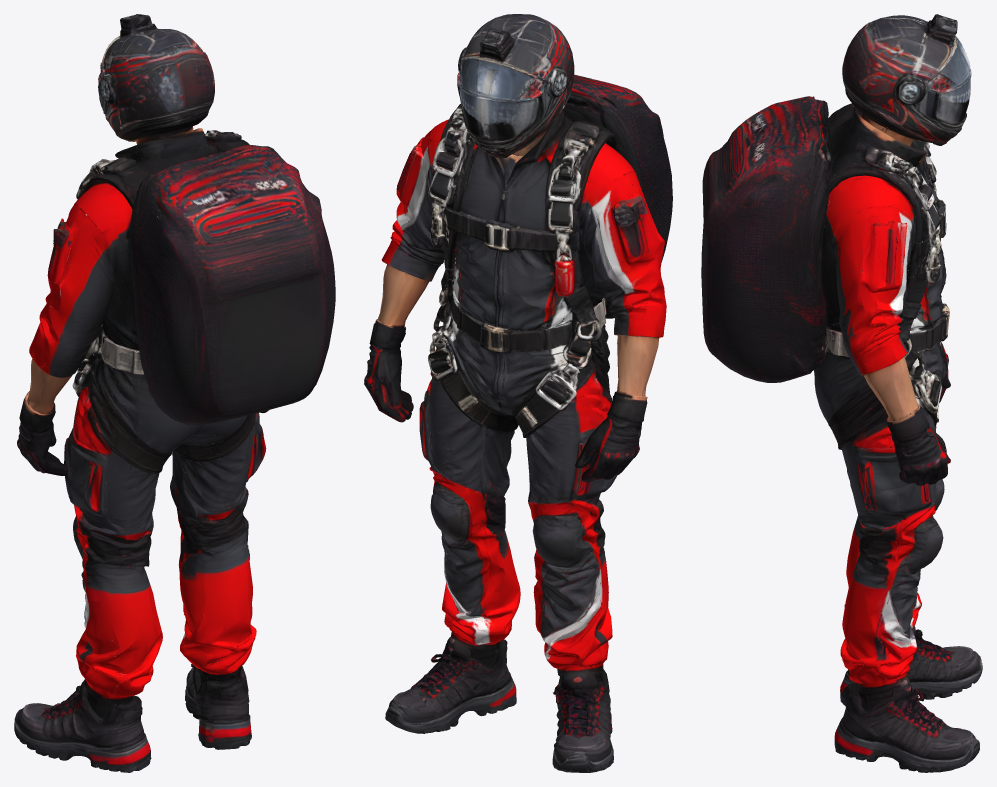
Rendered from parachutist-body.glb.
3 views of the same model, side by side, from view 1: azimuth 30°, elevation 25°; view 2: azimuth 150°, elevation 25°; view 3: azimuth 270°, elevation 25° (orthographic).
Visible parts, largest first — view 1: Parachutist | corrected anatomical bind pose; view 2: Parachutist | corrected anatomical bind pose; view 3: Parachutist | corrected anatomical bind pose.
Boxes of the visible parts, x1=… form: Parachutist | corrected anatomical bind pose: x1=14, y1=14, x2=335, y2=772; Parachutist | corrected anatomical bind pose: x1=364, y1=14, x2=672, y2=772; Parachutist | corrected anatomical bind pose: x1=701, y1=14, x2=982, y2=772.
Bounding box in the file's own units: 0.7667 × 1.91 × 0.6854.
1 material, 1 textured.
